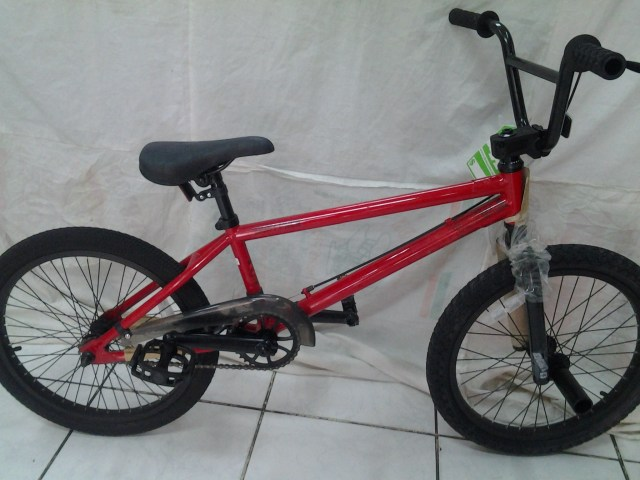bike: (1, 8, 640, 448)
